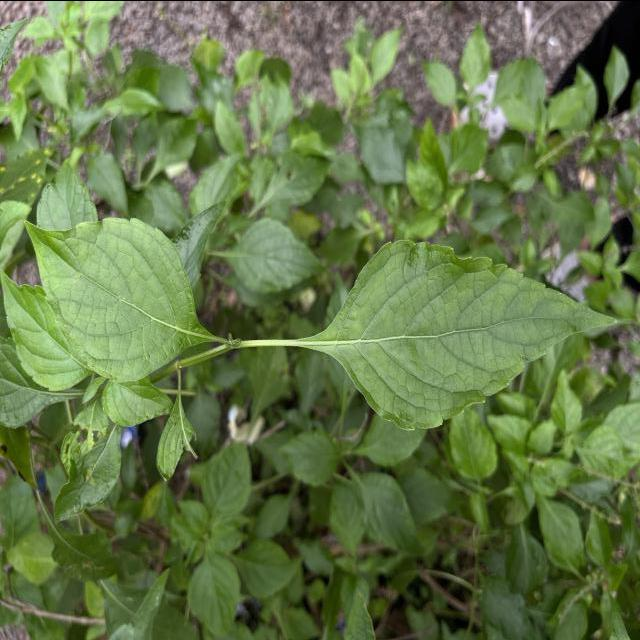Ocimum gratissimum: (299, 233, 621, 432), (18, 213, 218, 384), (0, 264, 97, 396)
